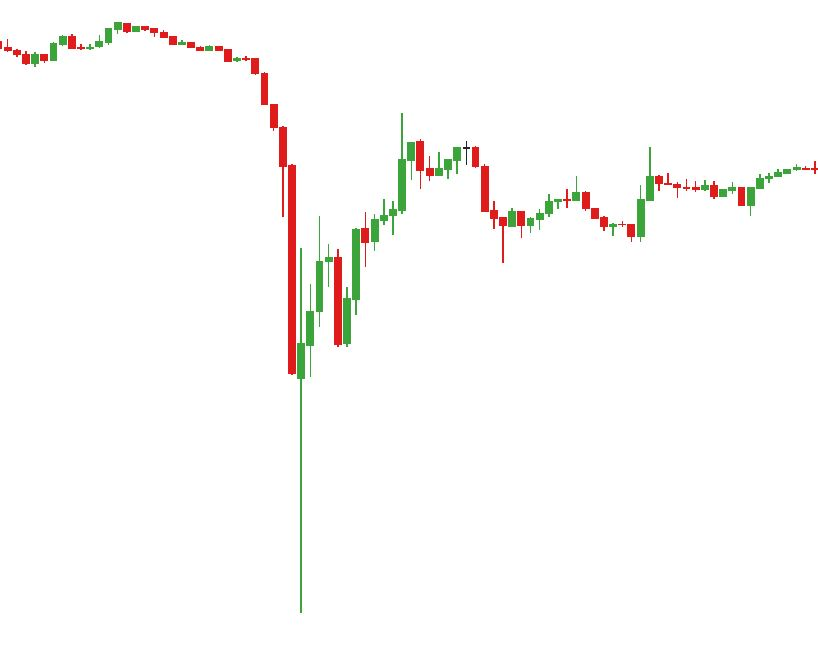sell: (573, 138, 662, 220)
